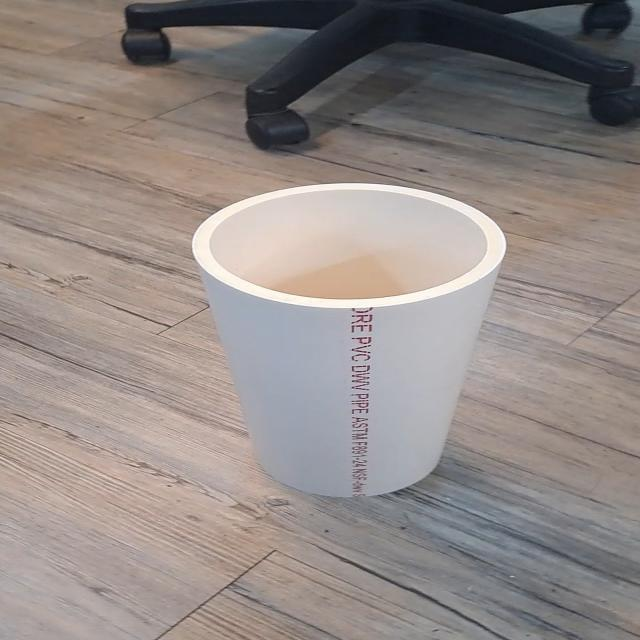CORAL: (178, 172, 535, 508)
